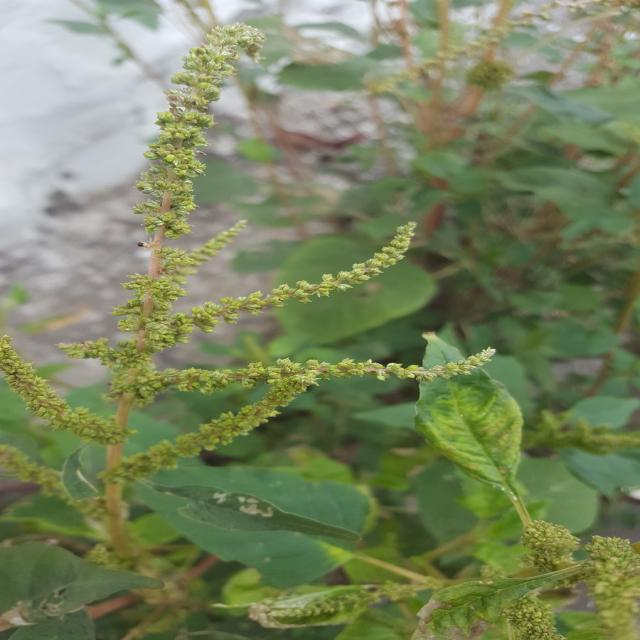Medicinal-Arive Dantu: (0, 14, 422, 566)
